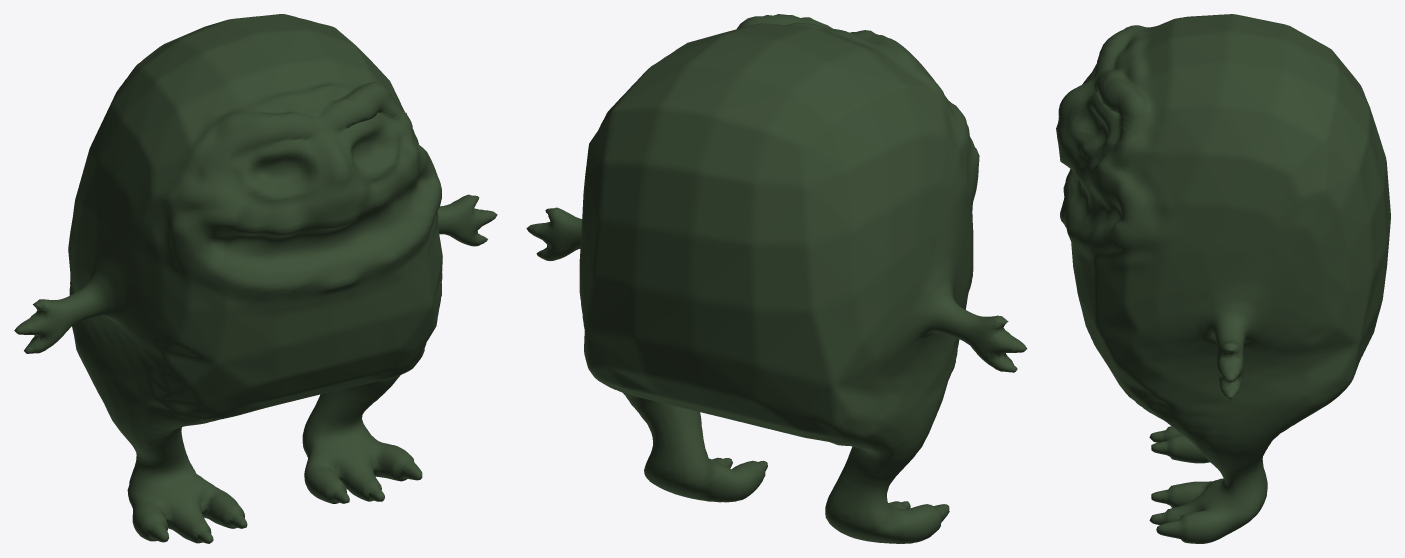
File: Critter.fbx
The picture shows the model from 3 angles, left to right: view 1: azimuth 30°, elevation 25°; view 2: azimuth 150°, elevation 25°; view 3: azimuth 270°, elevation 25°; orthographic projection. The views are drawn at different scales.
Parts seen in each view (by area): view 1: Vert; view 2: Vert; view 3: Vert.
Part boxes in pixels (x1,y1,x2,y2): Vert: (14, 14, 497, 543); Vert: (526, 14, 1027, 543); Vert: (1056, 14, 1390, 543).
Bounding box in the file's own units: 455 × 422 × 280.
1 material, 1 textured.
